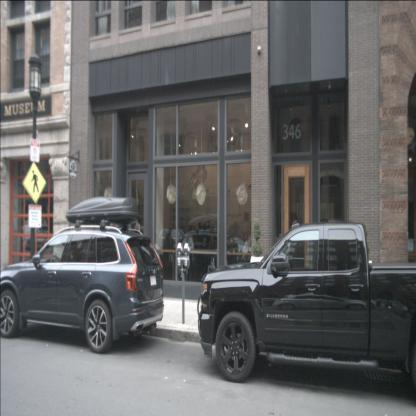human-pedestrian-adult: (163, 225, 174, 294), (181, 232, 195, 284), (242, 236, 256, 284)
vehicle-car: (0, 196, 164, 354), (157, 213, 238, 287), (158, 228, 191, 254)
vehicle-truck: (197, 220, 416, 394)
